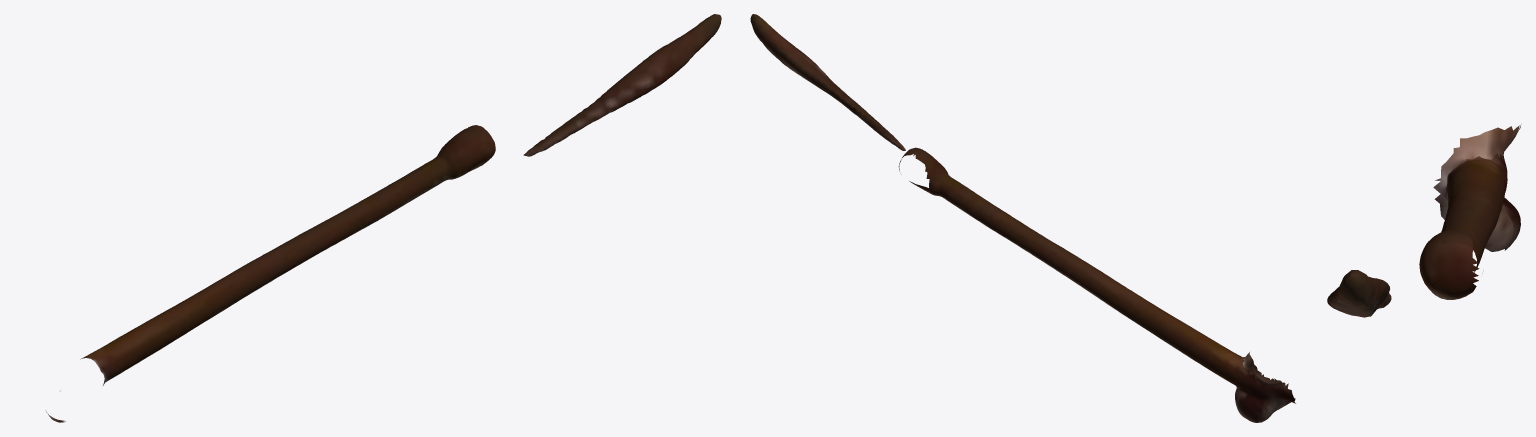
Rendered from taiko_baqueta_der.glb.
3 views of the same model, side by side, from view 1: azimuth 30°, elevation 25°; view 2: azimuth 150°, elevation 25°; view 3: azimuth 270°, elevation 25° (orthographic). The views are drawn at different scales.
Visible parts, largest first — view 1: baqueta_der; view 2: baqueta_der; view 3: baqueta_der.
Part boxes in pixels (x1=…): baqueta_der: x1=45, y1=14, x2=721, y2=422; baqueta_der: x1=750, y1=14, x2=1295, y2=422; baqueta_der: x1=1327, y1=124, x2=1521, y2=317.
Size of the model in its own units: 0.4367 by 0.1797 by 0.0633.
1 material, 1 textured.
